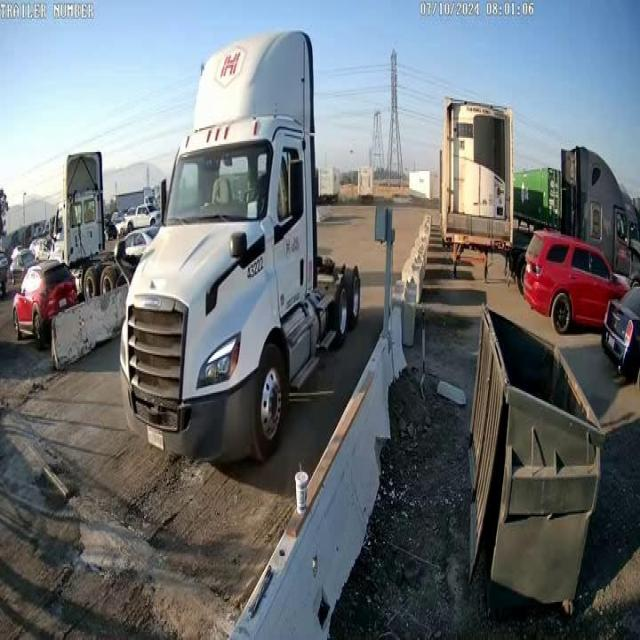TRUCK_OUT: (118, 28, 362, 466)
